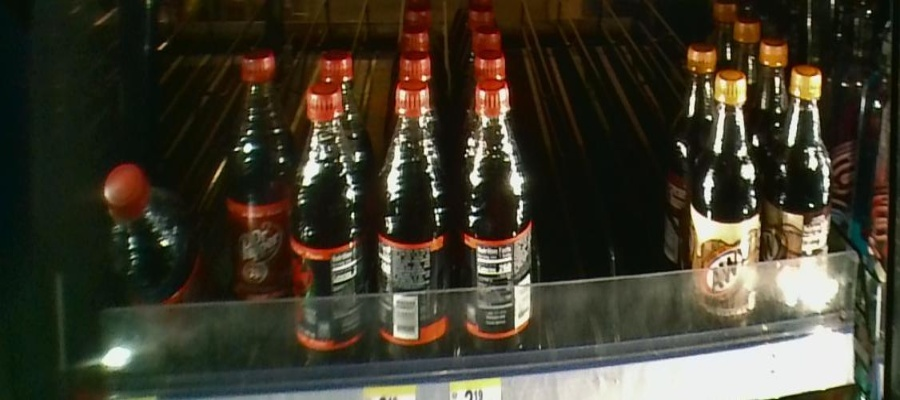bottle: (452, 75, 537, 366), (213, 45, 288, 360), (369, 82, 447, 381), (690, 70, 768, 338), (292, 83, 366, 364), (773, 57, 834, 333), (98, 160, 194, 324)
